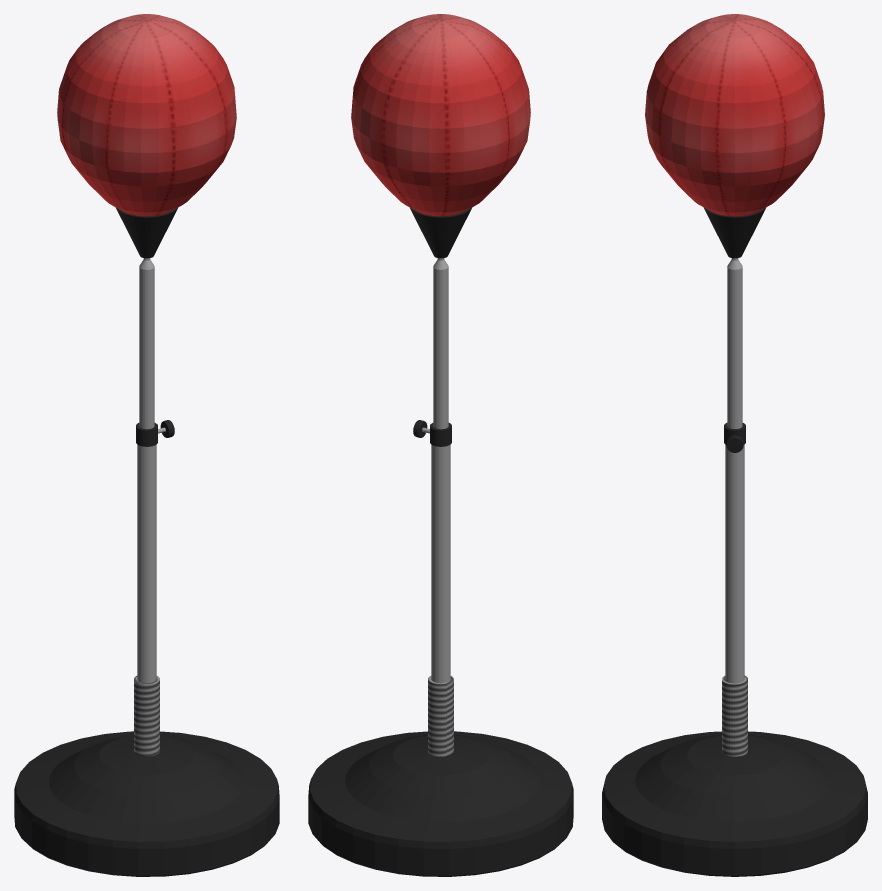
The model's file is sweethome3d-scopia-punching-ball-180.glb.
The picture shows the model from 3 angles, left to right: view 1: azimuth 30°, elevation 25°; view 2: azimuth 150°, elevation 25°; view 3: azimuth 270°, elevation 25°; orthographic projection.
Visible parts, largest first — view 1: Cylinder, Cylinder.002; view 2: Cylinder, Cylinder.002; view 3: Cylinder, Cylinder.002.
Part boxes in pixels (bbox=[...]): Cylinder: bbox=[14, 207, 279, 876]; Cylinder.002: bbox=[57, 14, 236, 756]; Cylinder: bbox=[308, 207, 573, 876]; Cylinder.002: bbox=[351, 14, 530, 756]; Cylinder: bbox=[602, 207, 867, 876]; Cylinder.002: bbox=[645, 14, 824, 756].
Size of the model in its own units: 45.87 by 153 by 45.87.
Materials: 5 (2 with a texture image).
